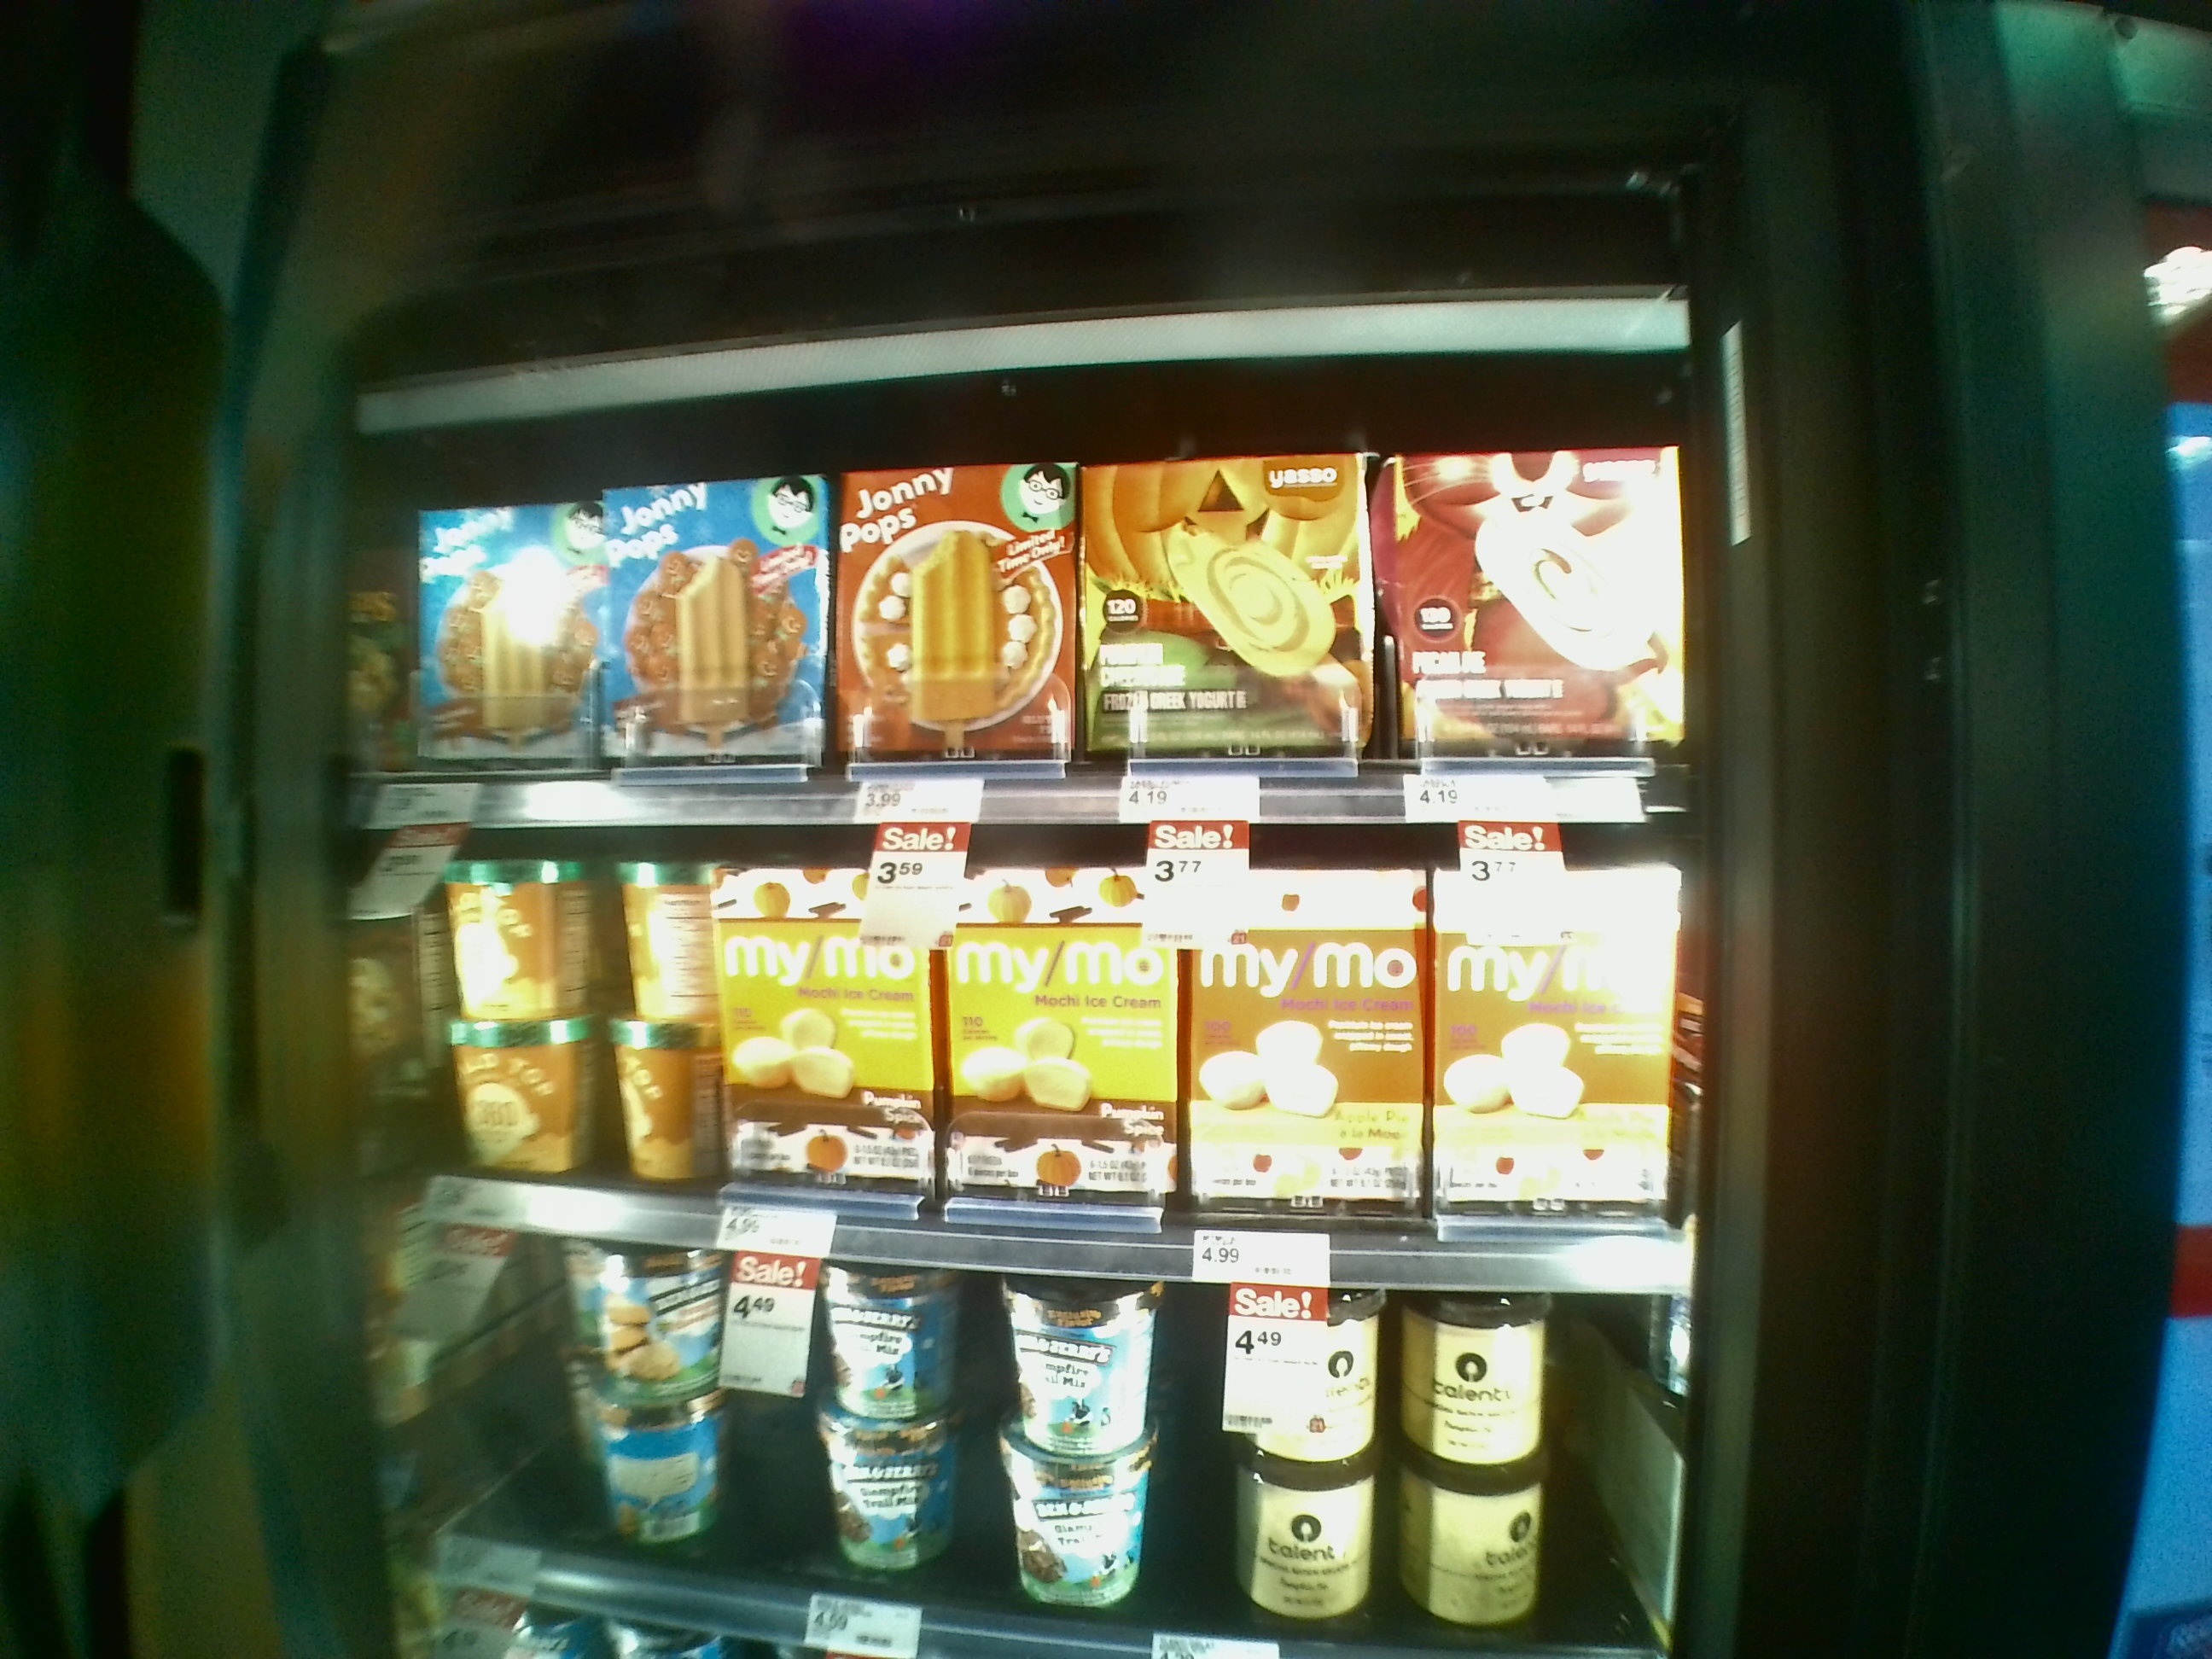shelf: (308, 812, 1707, 1295), (324, 394, 1710, 823)
